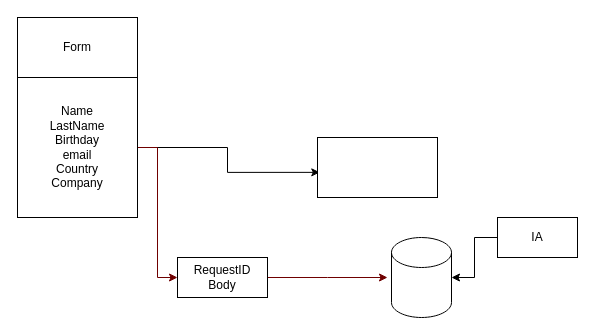
The diagram is 595 pixels wide and 335 high, and some of its shapes have lost their labels. Each missing label, with the centre of its shape:
Backend: the point at 377,167
JSON: the point at 421,277
